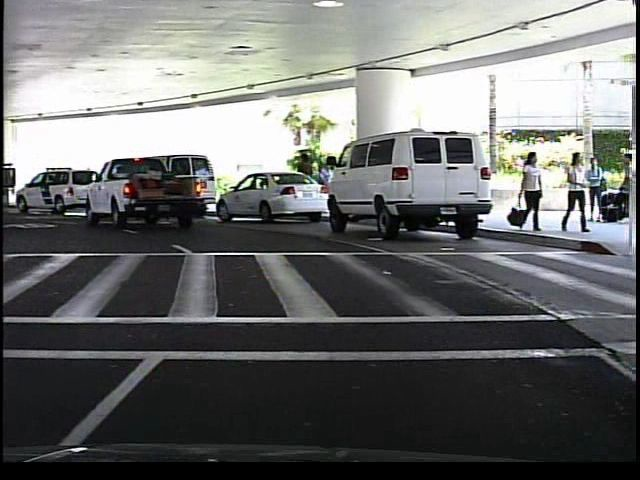person: (516, 146, 547, 231), (564, 149, 593, 236), (586, 154, 610, 226), (614, 151, 637, 221), (295, 151, 319, 212)
